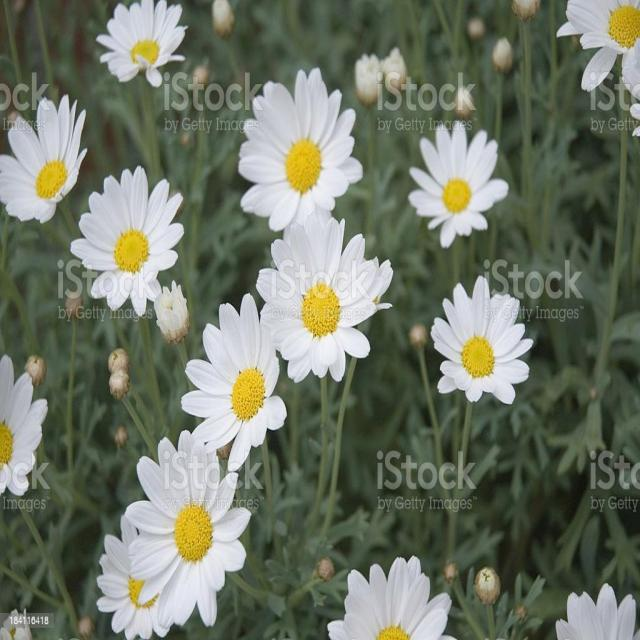organic waste: (252, 203, 395, 384), (127, 438, 256, 625), (231, 70, 360, 230), (184, 292, 288, 469), (74, 165, 188, 310), (420, 271, 534, 414), (404, 114, 504, 245), (0, 100, 90, 226), (326, 558, 464, 640), (99, 0, 201, 89), (556, 5, 638, 111), (1, 342, 46, 506)
